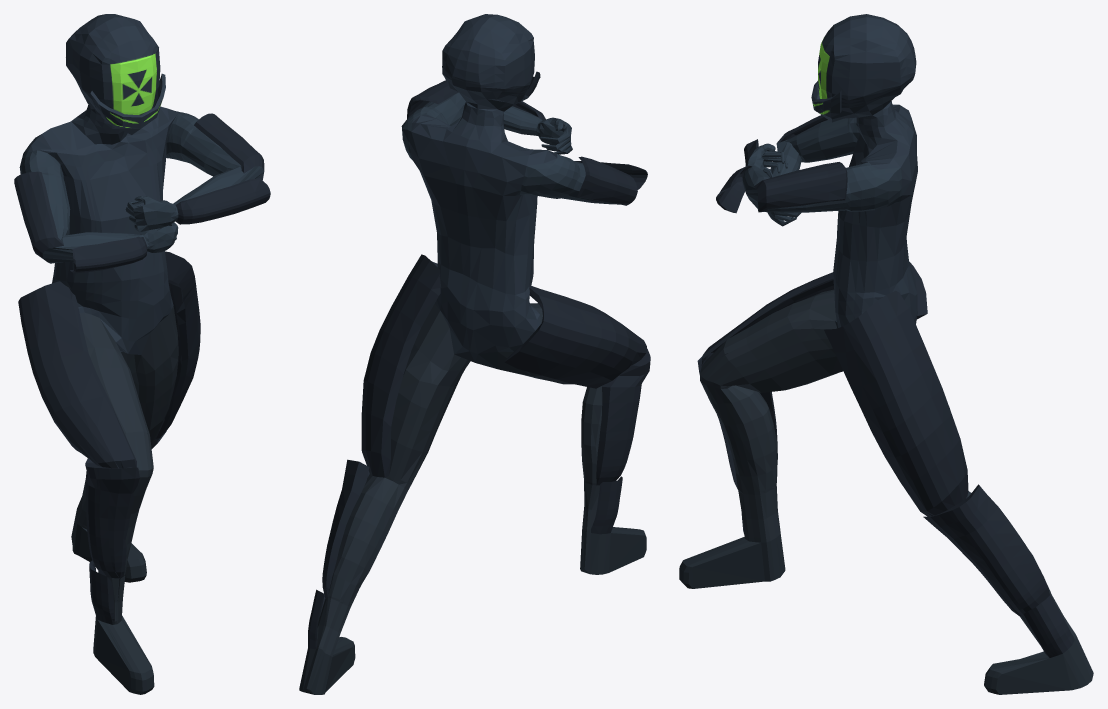
File: Bastion_WR_000023.obj
The picture shows the model from 3 angles, left to right: view 1: azimuth 30°, elevation 25°; view 2: azimuth 150°, elevation 25°; view 3: azimuth 270°, elevation 25°; orthographic projection. The views are drawn at different scales.
Visible parts, largest first — view 1: Cube.002; view 2: Cube.002; view 3: Cube.002.
Boxes of the visible parts, x1,y1,x2,y2 form: Cube.002: (14,14,270,694); Cube.002: (299,14,650,694); Cube.002: (679,14,1093,694).
Bounding box in the file's own units: 1.31 × 3.59 × 2.14.
